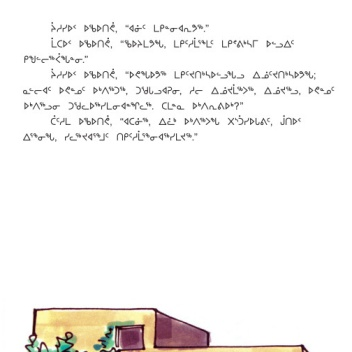inuktitut: (20, 82, 336, 97), (47, 66, 317, 81), (48, 36, 296, 51), (18, 96, 244, 112), (49, 112, 303, 126), (19, 129, 199, 144), (48, 19, 210, 35), (21, 51, 89, 66)
